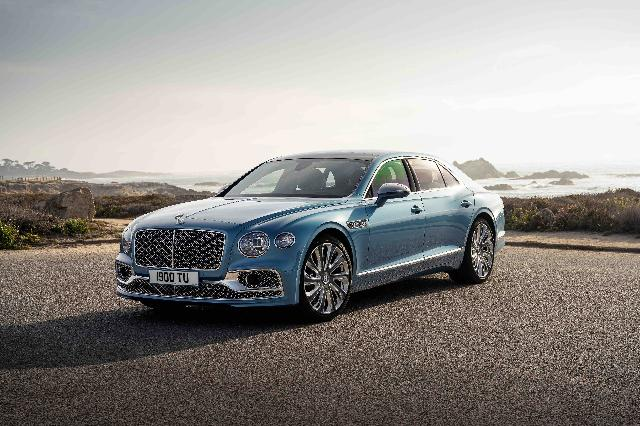bentley: (114, 150, 506, 322)
